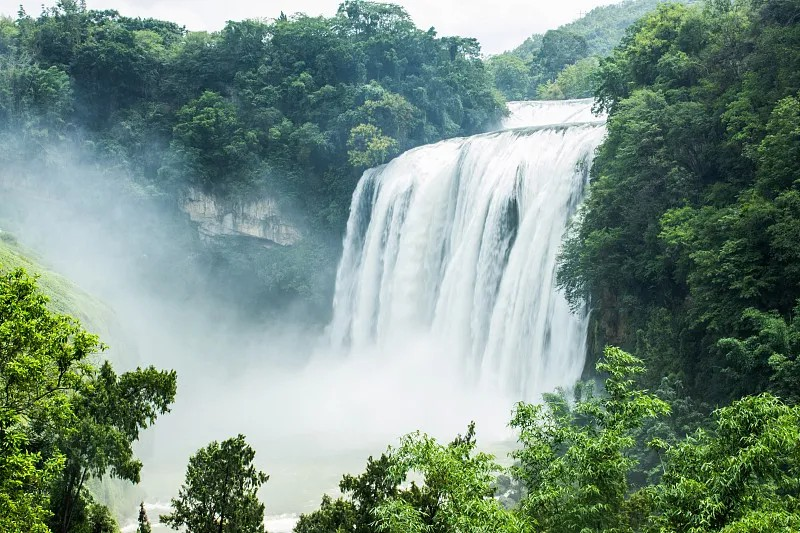Huangguoshu: (331, 97, 608, 431)
